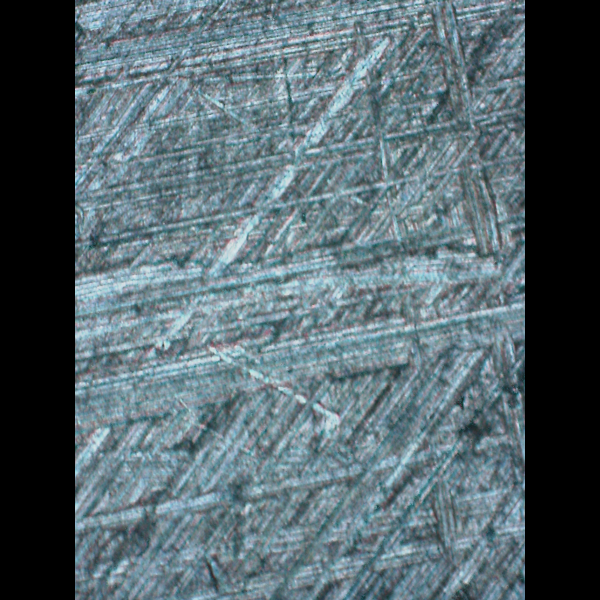d: (76, 259, 525, 424)
